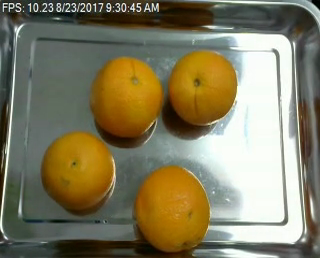Orange: (134, 165, 210, 252), (90, 56, 163, 137), (41, 131, 115, 210), (167, 49, 236, 125)
